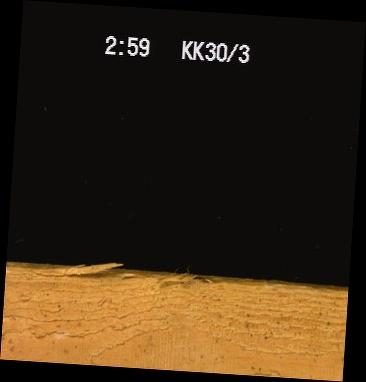split: (30, 266, 116, 279)
